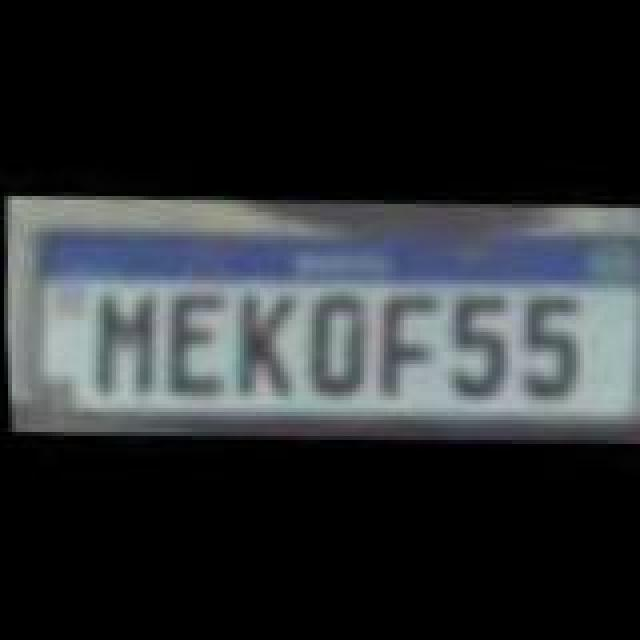5: (440, 286, 516, 406), (510, 286, 586, 402)
D: (302, 288, 370, 400)
E: (160, 282, 224, 398)
F: (372, 282, 436, 402)
K: (226, 280, 294, 396)
M: (88, 286, 160, 398)
